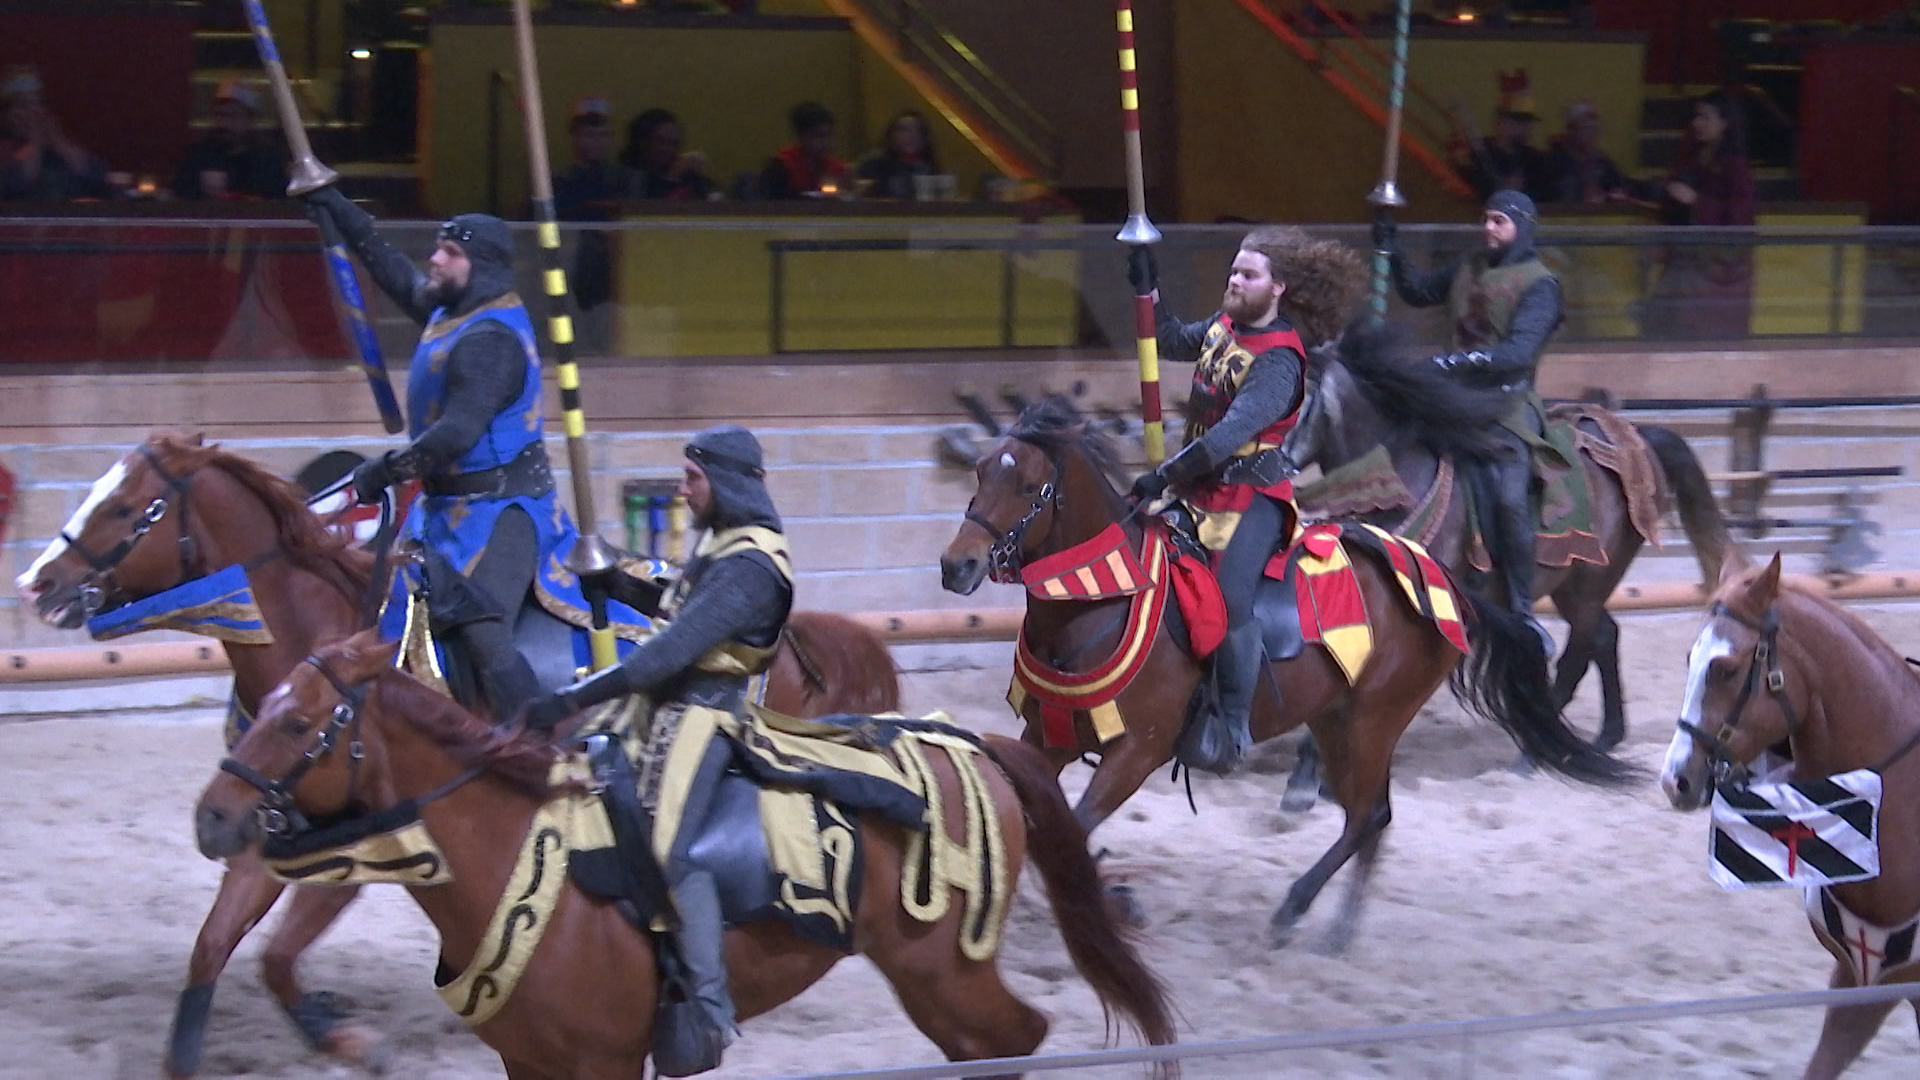Horse: (53, 444, 915, 1005), (181, 624, 1141, 1080), (942, 397, 1482, 952), (1271, 308, 1732, 797), (1679, 536, 1920, 1069)
Person: (626, 411, 820, 1052), (365, 191, 581, 708), (1166, 191, 1329, 766), (1427, 186, 1599, 558)
